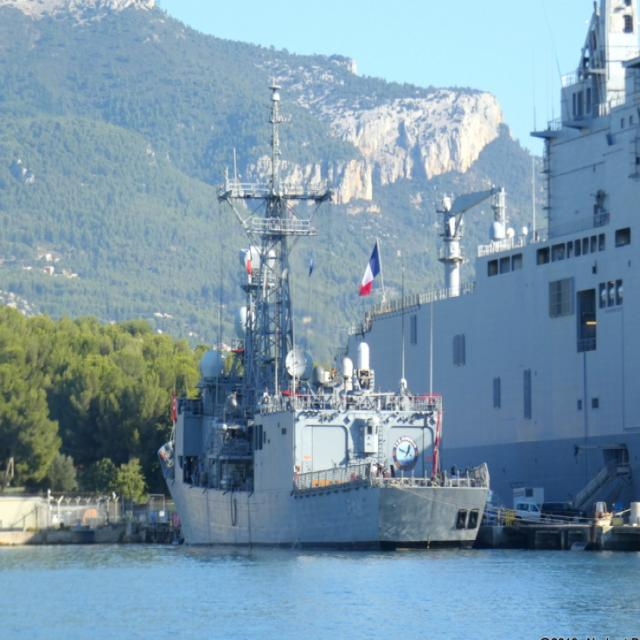Fragata: (161, 74, 495, 555)
